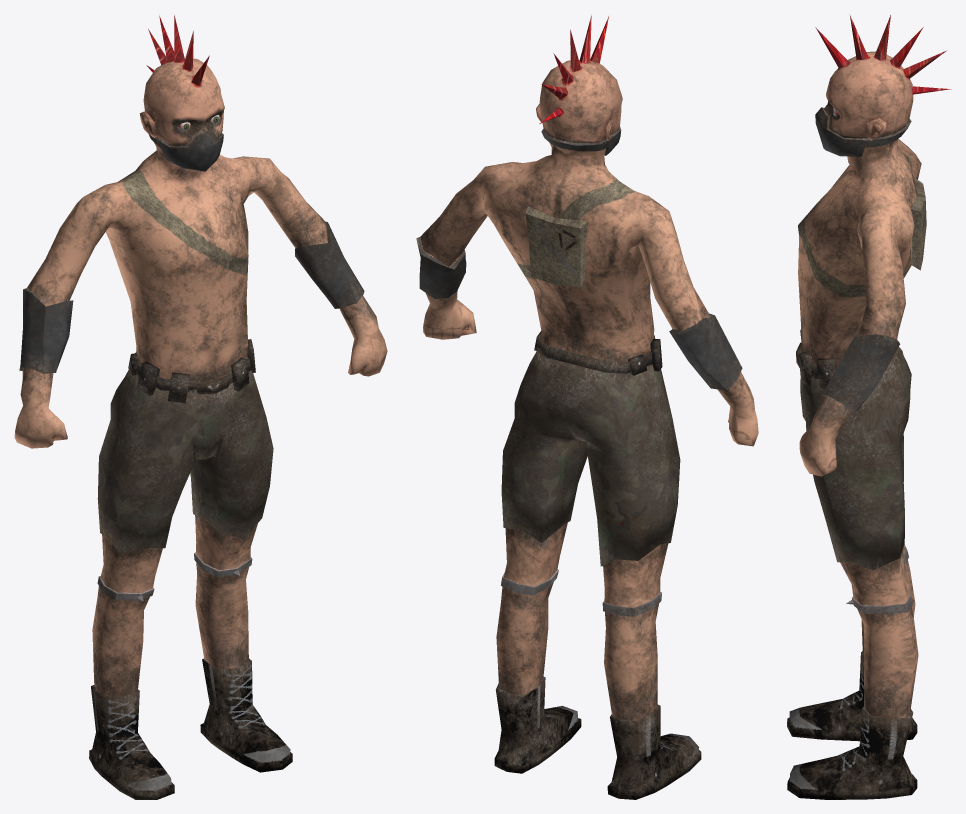
File: Anim_idle_npc2.0029.obj
The picture shows the model from 3 angles, left to right: view 1: azimuth 30°, elevation 25°; view 2: azimuth 150°, elevation 25°; view 3: azimuth 270°, elevation 25°; orthographic projection. The views are drawn at different scales.
Parts seen in each view (by area): view 1: polySurface1; view 2: polySurface1; view 3: polySurface1.
Boxes of the visible parts, x1=… form: polySurface1: x1=14, y1=15, x2=387, y2=799; polySurface1: x1=416, y1=15, x2=758, y2=799; polySurface1: x1=787, y1=14, x2=951, y2=799.
Size of the model in its own units: 5.07 by 10.18 by 2.03.
2 materials, 2 textured.
